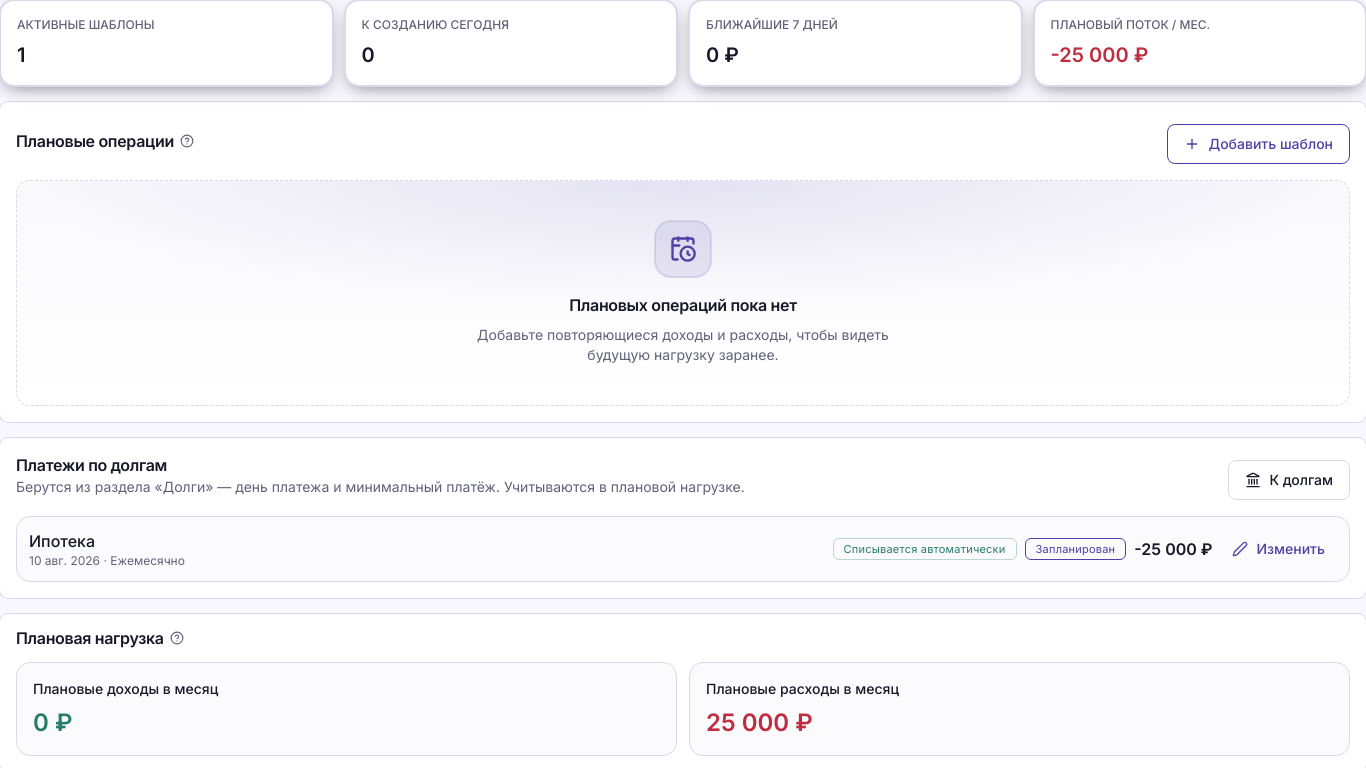
Test: planning screen › prefills the template amount from the category budget
The image size is (1366, 768).
Click the button "Добавить шаблон". click: [1259, 144]
box: [1168,124,1350,164]
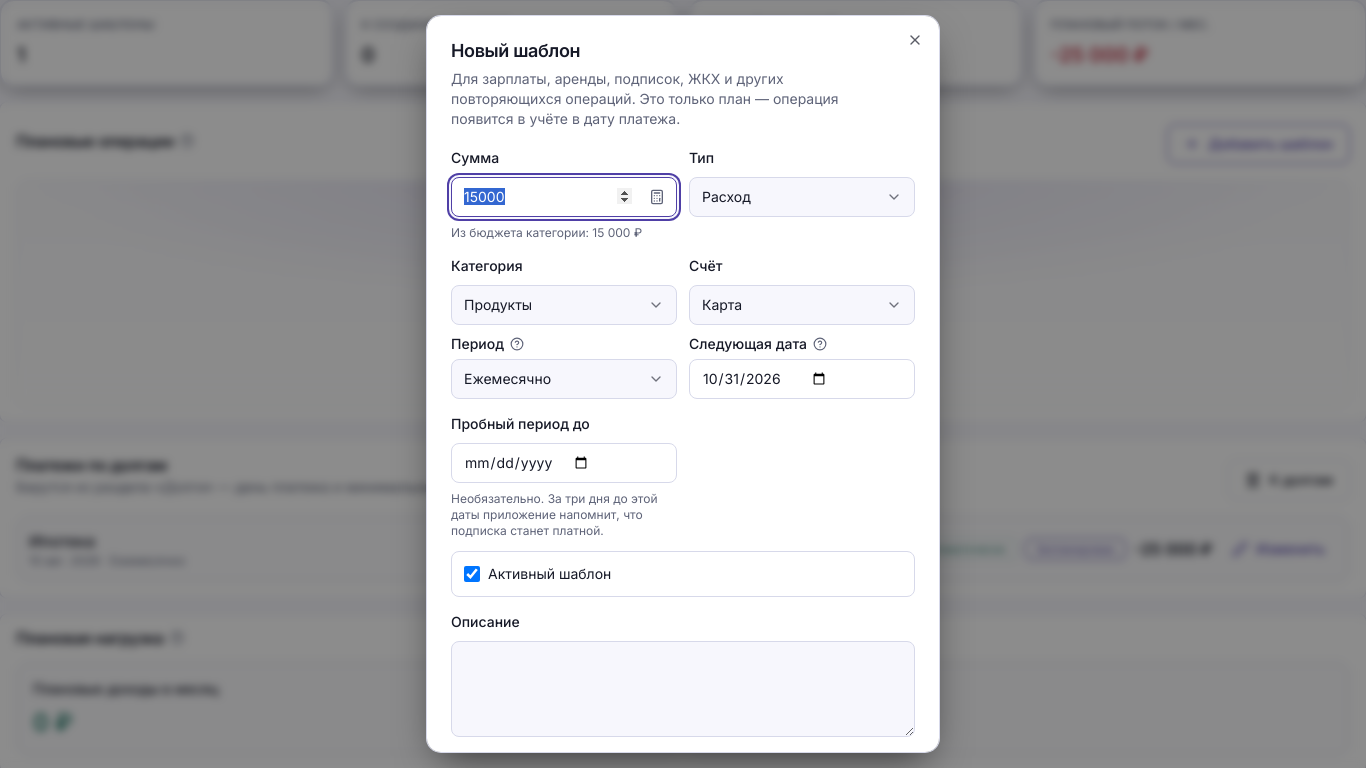
Expected: the number field holds "15000", [451,176,677,216]
Expected: the text "Из бюджета категории: 15 000 ₽" is shown, [451,224,642,240]
